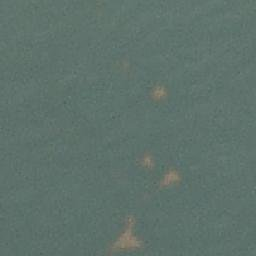debris: (115, 212, 140, 247), (161, 171, 180, 185), (150, 87, 167, 99), (140, 153, 151, 168)
